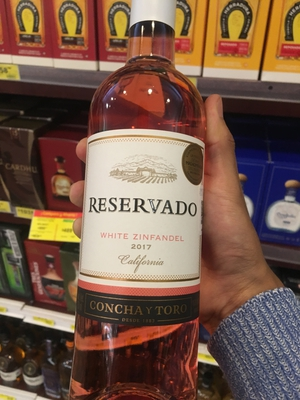reservado white zinfandel: (67, 16, 229, 400)
